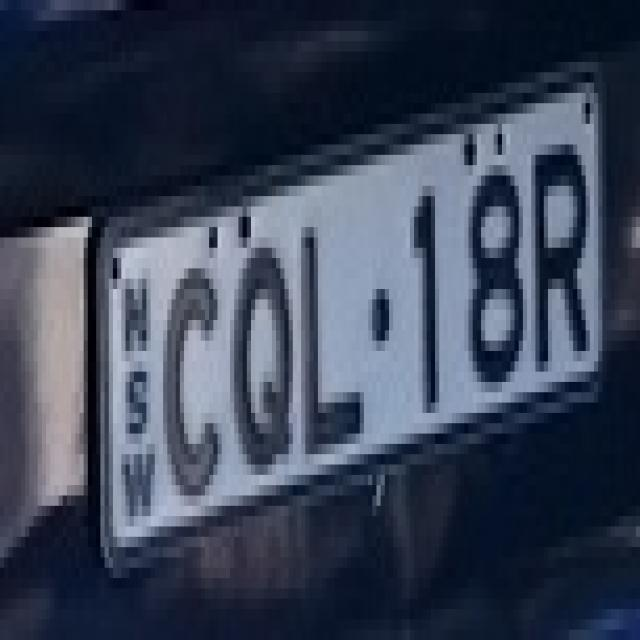licenseplate: (70, 38, 620, 626)
